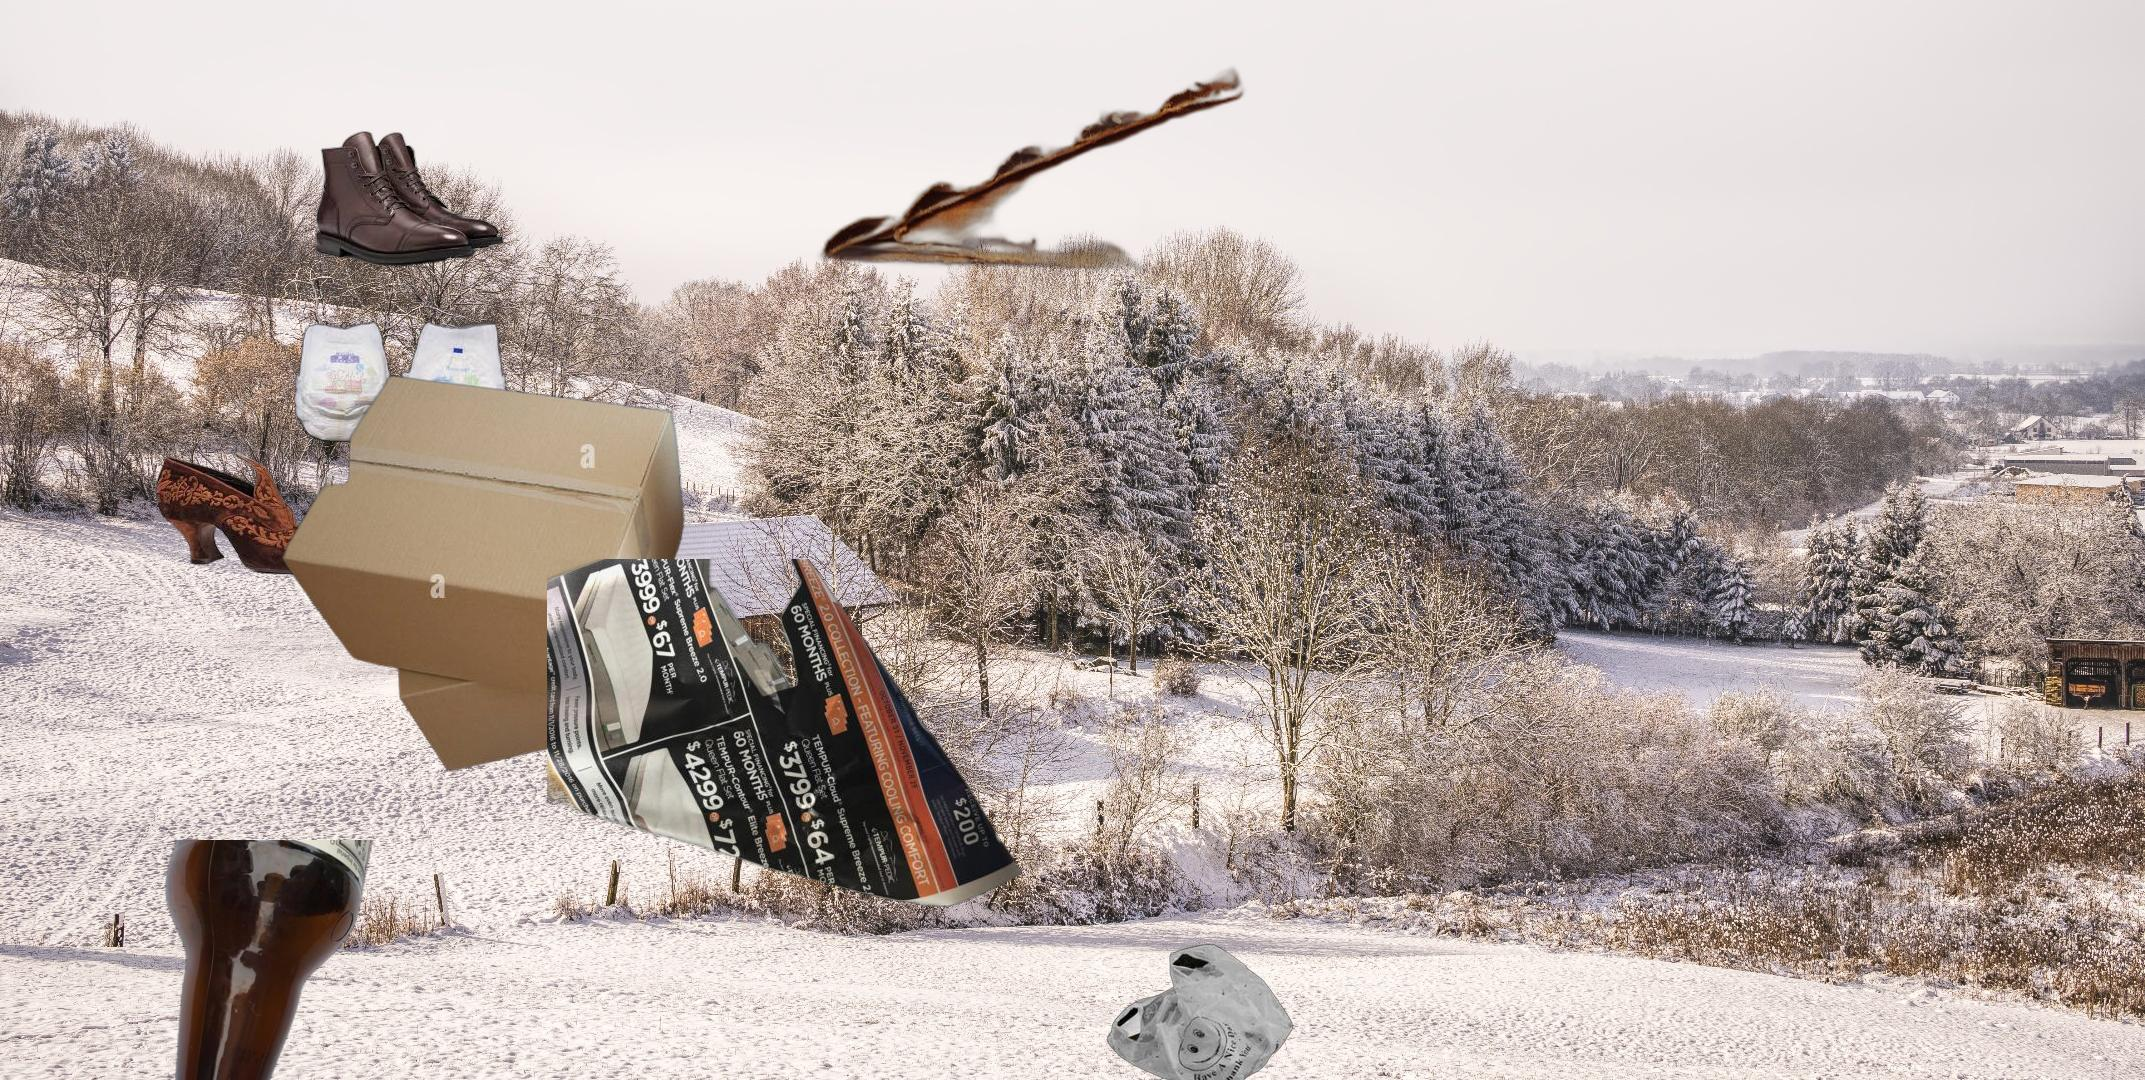glass: (160, 840, 379, 1080)
paper: (547, 559, 1026, 911)
plastic-bag: (1104, 944, 1296, 1080)
shoes: (153, 448, 368, 579), (313, 129, 508, 269)
trash: (290, 320, 514, 445)
trashbox-cardboard: (278, 372, 704, 776), (810, 61, 1448, 280)
